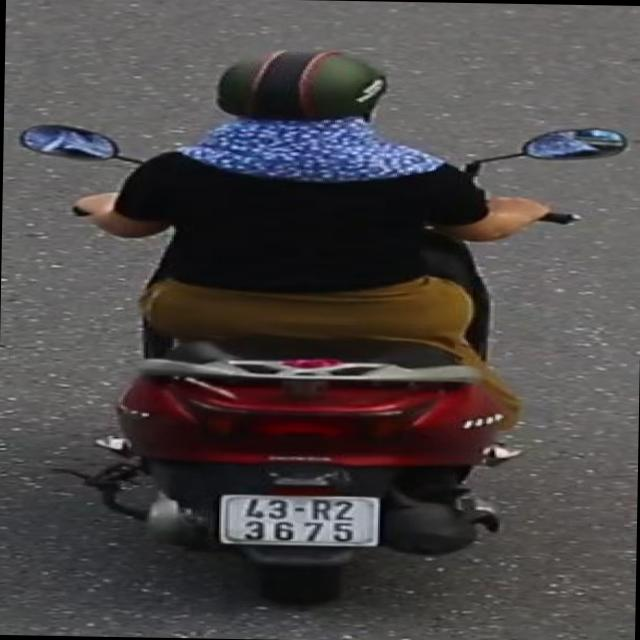LP: (215, 490, 394, 556)
helmet: (198, 42, 400, 162)
